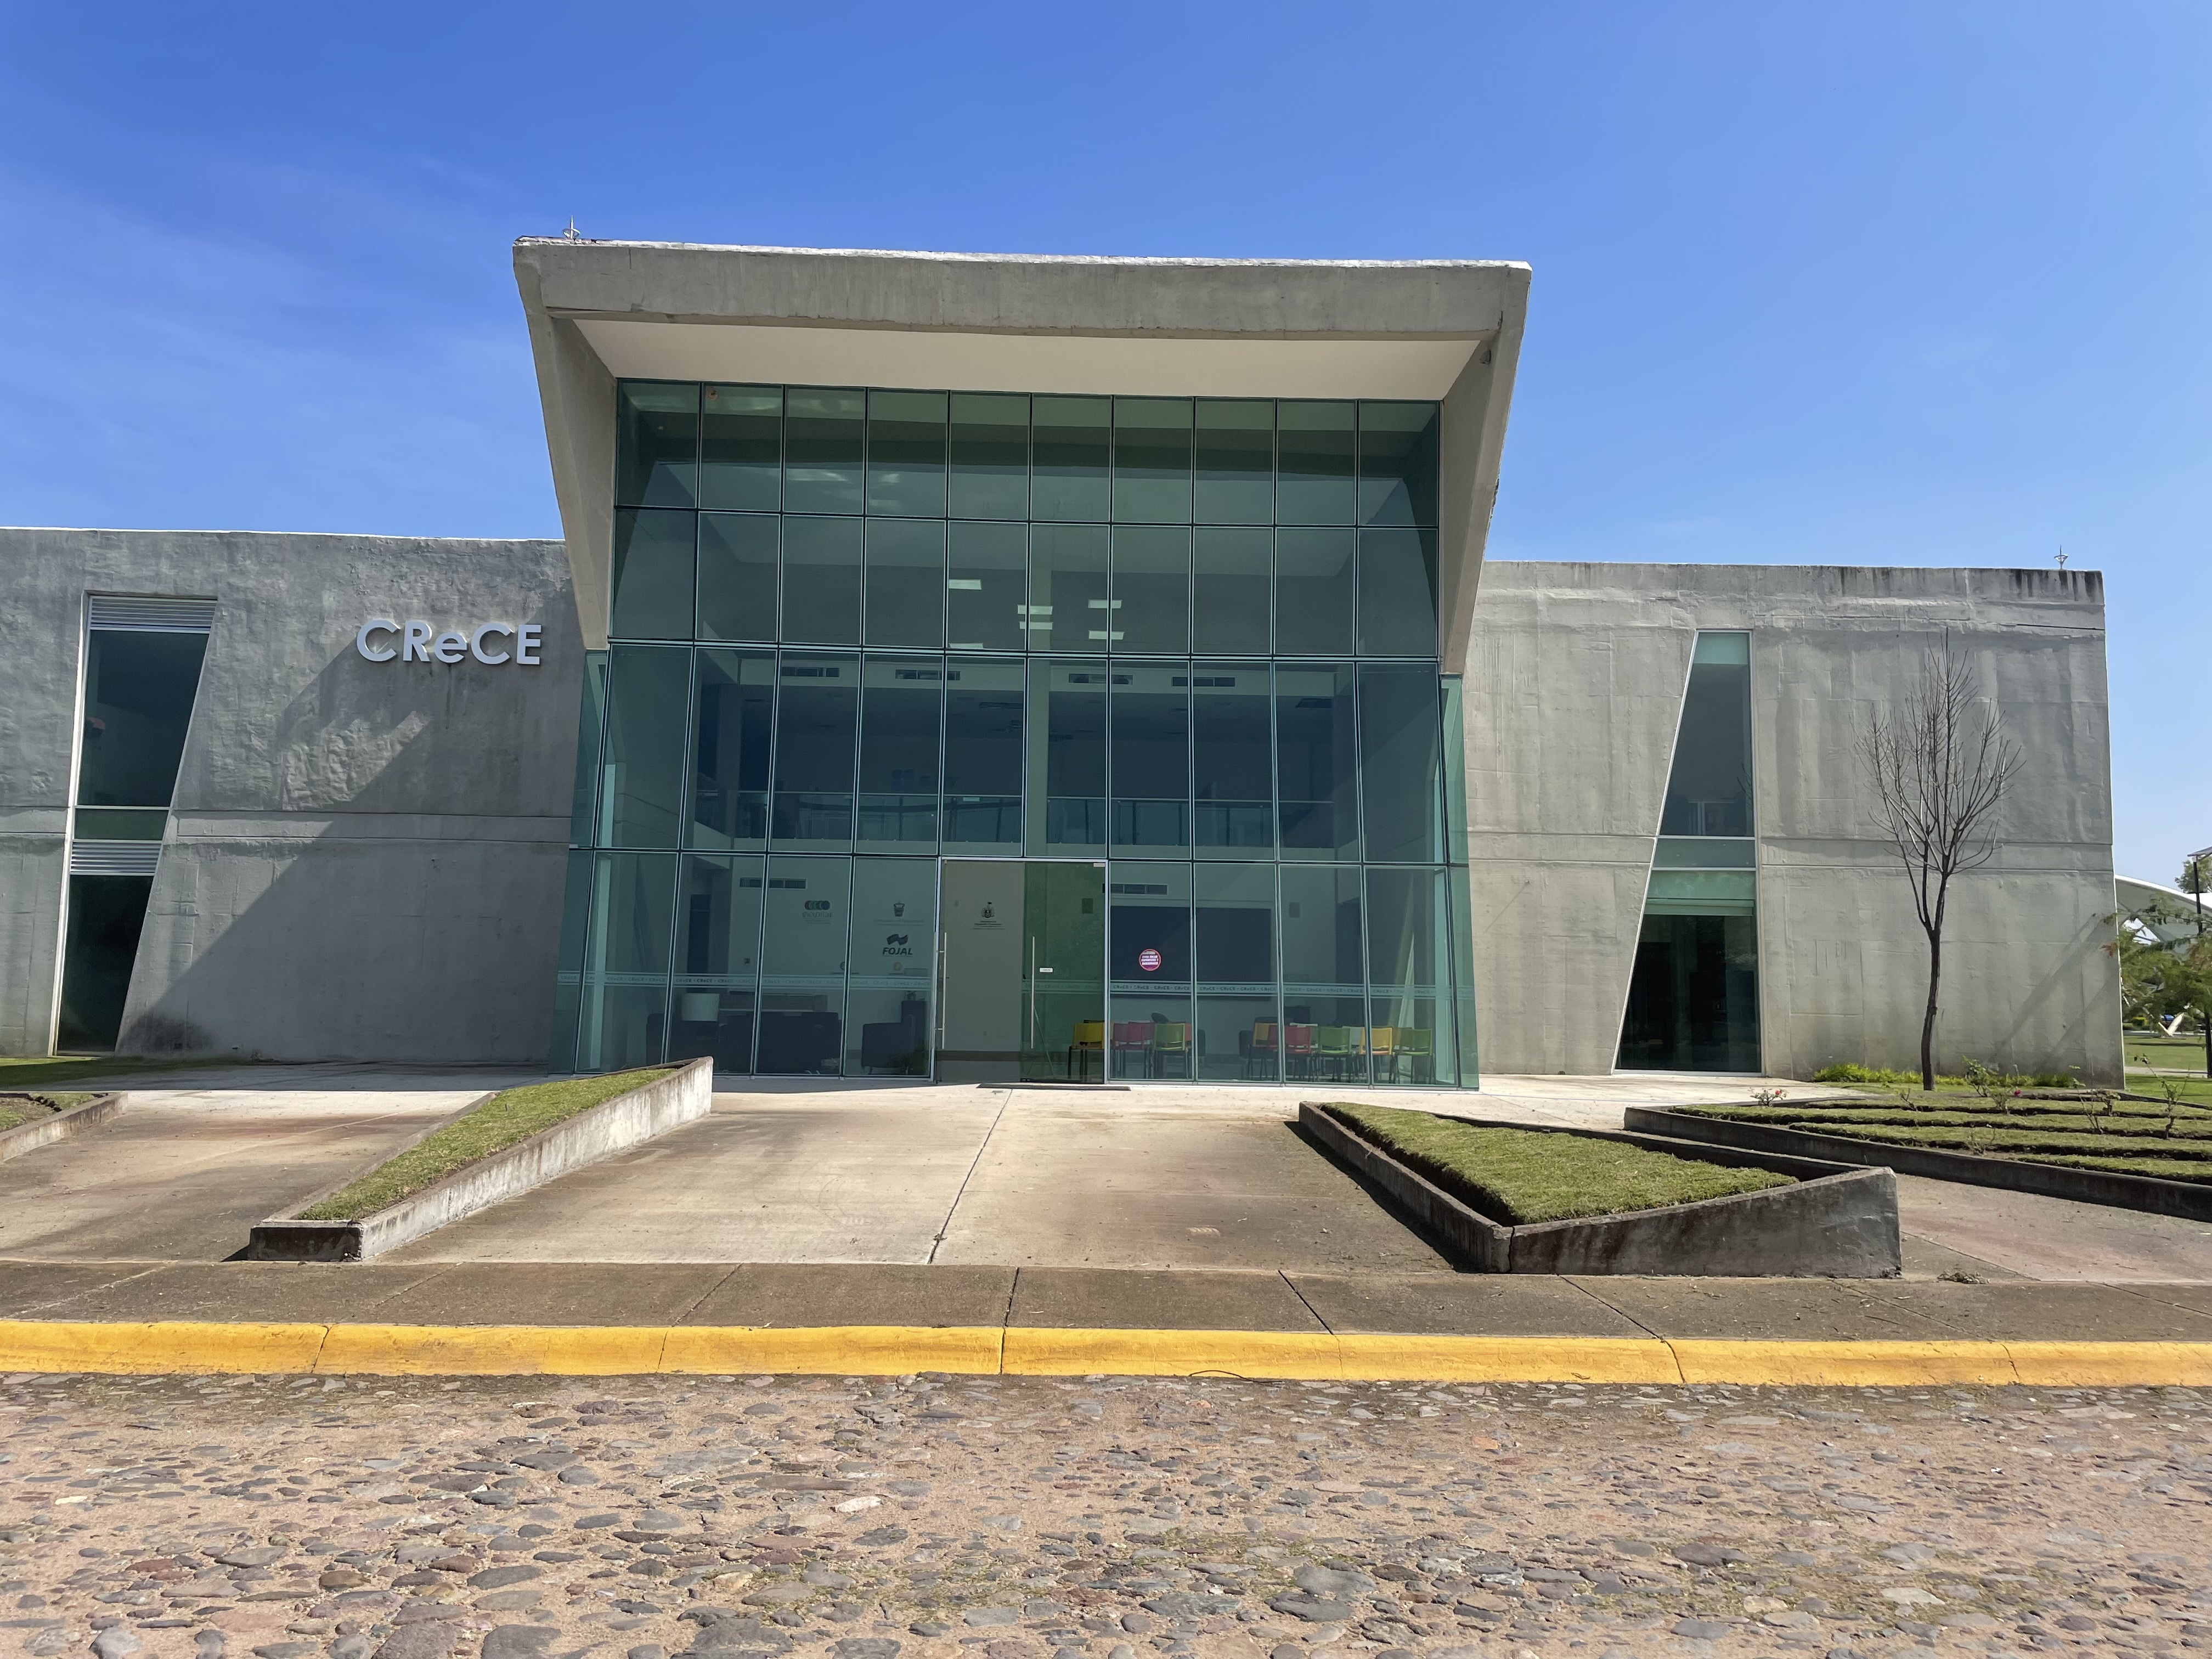crece: (31, 197, 2175, 1270)
